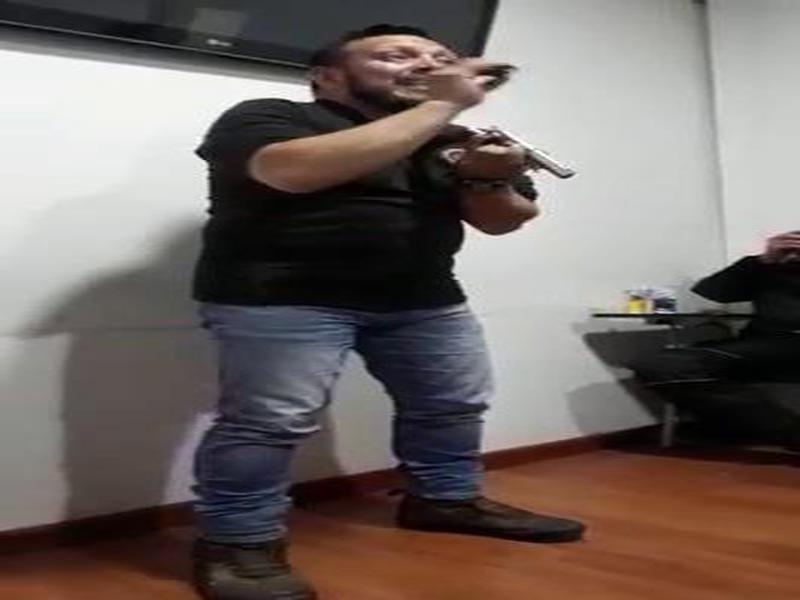Revolver: (445, 112, 583, 213)
